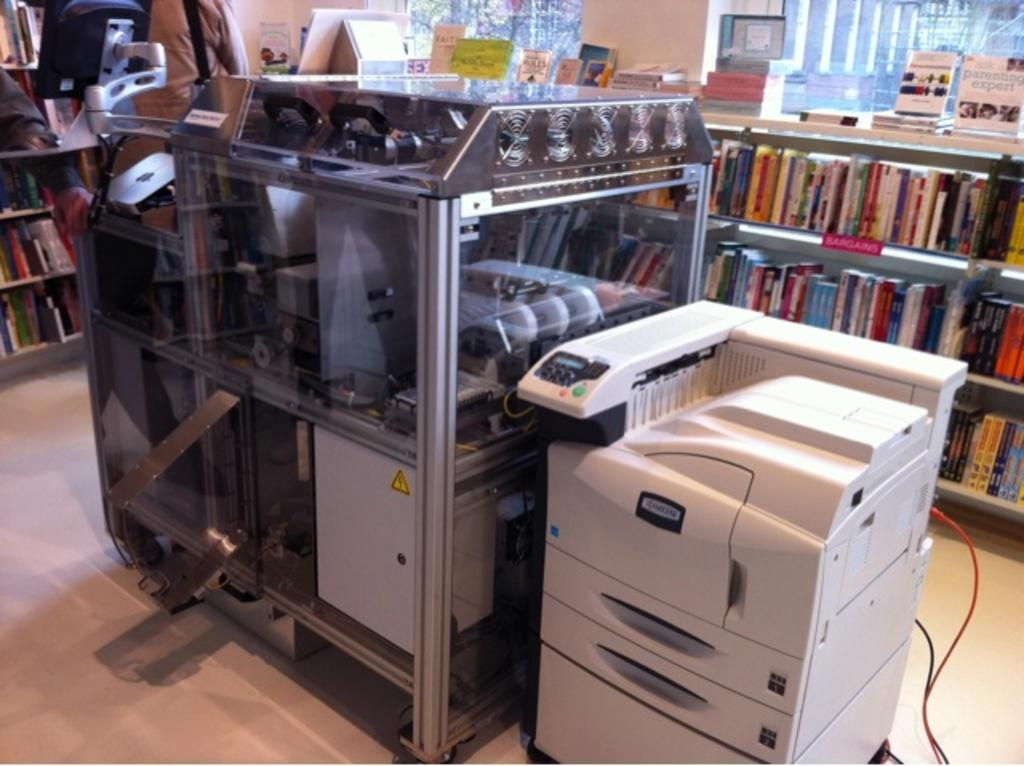Book: (613, 230, 1022, 390), (616, 139, 1022, 272), (931, 395, 1022, 505), (0, 269, 85, 365), (685, 53, 794, 118), (0, 70, 83, 150), (0, 211, 82, 285), (950, 53, 1022, 134), (886, 48, 957, 115), (597, 62, 709, 94), (422, 16, 472, 78), (0, 162, 54, 219), (0, 0, 45, 62), (250, 21, 291, 78), (576, 37, 614, 85), (510, 50, 549, 86), (547, 58, 582, 86)
